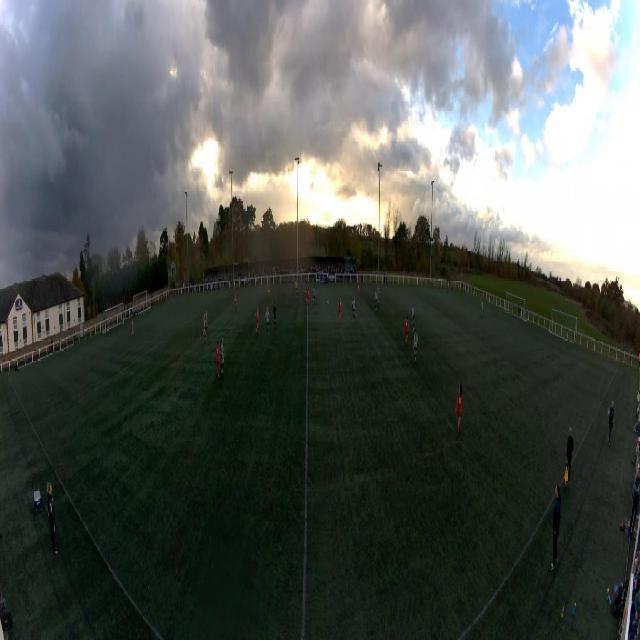ball: (327, 300, 328, 304)
player: (455, 385, 464, 434), (217, 339, 223, 378), (413, 327, 418, 365), (220, 336, 225, 374), (201, 313, 207, 344), (265, 306, 270, 338), (337, 296, 342, 324), (273, 301, 278, 329), (405, 315, 409, 346), (255, 306, 259, 335), (352, 296, 356, 323), (312, 286, 317, 306), (373, 289, 377, 313), (412, 304, 415, 330), (306, 287, 310, 306), (267, 283, 271, 300), (205, 309, 208, 331), (234, 291, 237, 312), (356, 282, 360, 296), (295, 282, 298, 299), (377, 286, 380, 303), (131, 319, 134, 336), (481, 300, 483, 317)
